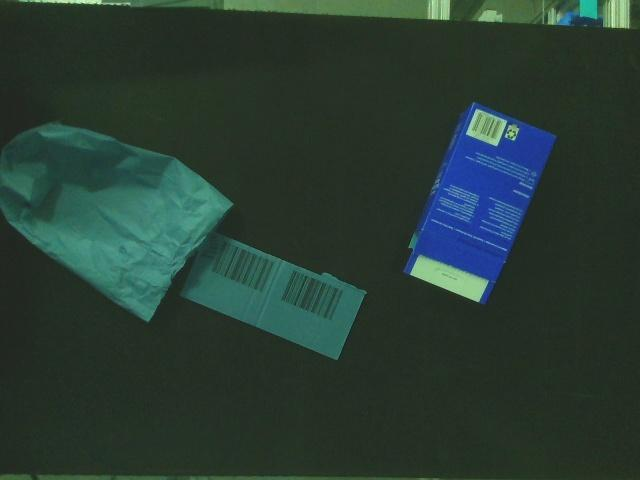cardboard: (397, 101, 557, 313), (176, 225, 372, 366)
paper: (0, 120, 237, 329)
